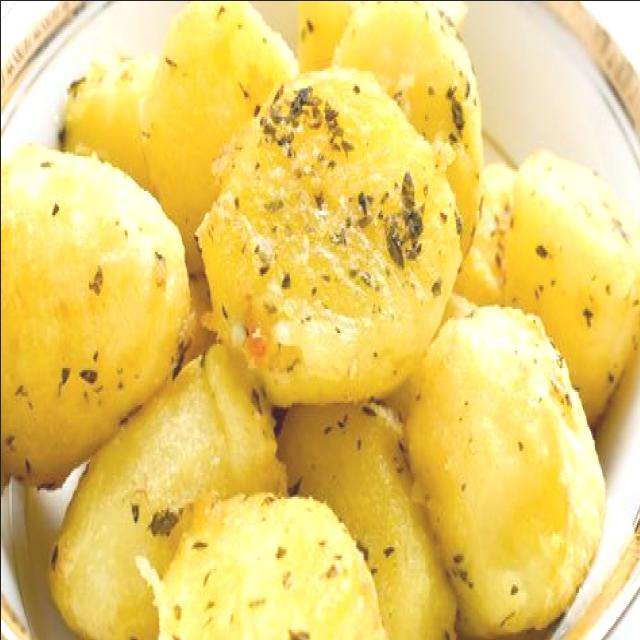kentang rebus: (176, 66, 484, 408), (0, 142, 207, 472), (412, 320, 598, 624)
